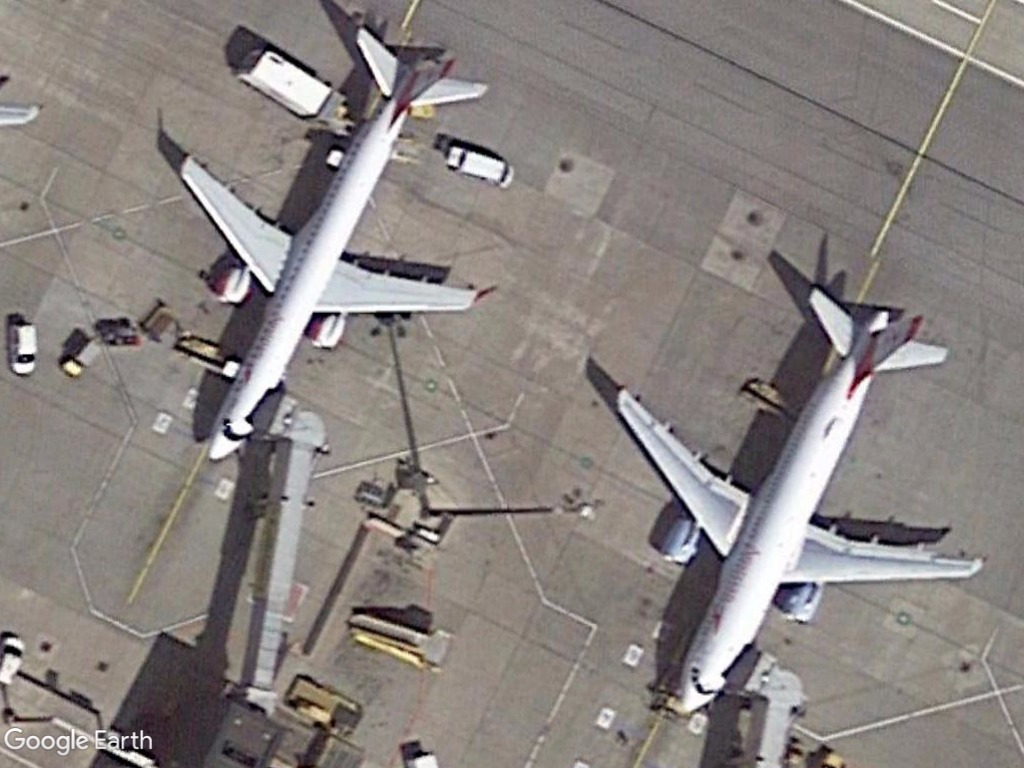airliner: (617, 282, 989, 718), (174, 19, 491, 473)
stairtruck: (347, 608, 454, 676)
van: (452, 144, 517, 190), (7, 322, 43, 378)
